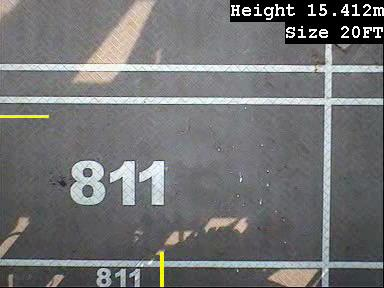groundmarker_2: (197, 90, 239, 138)
